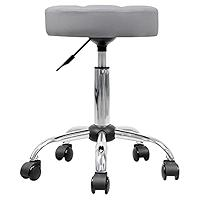stool: (19, 4, 179, 194)
